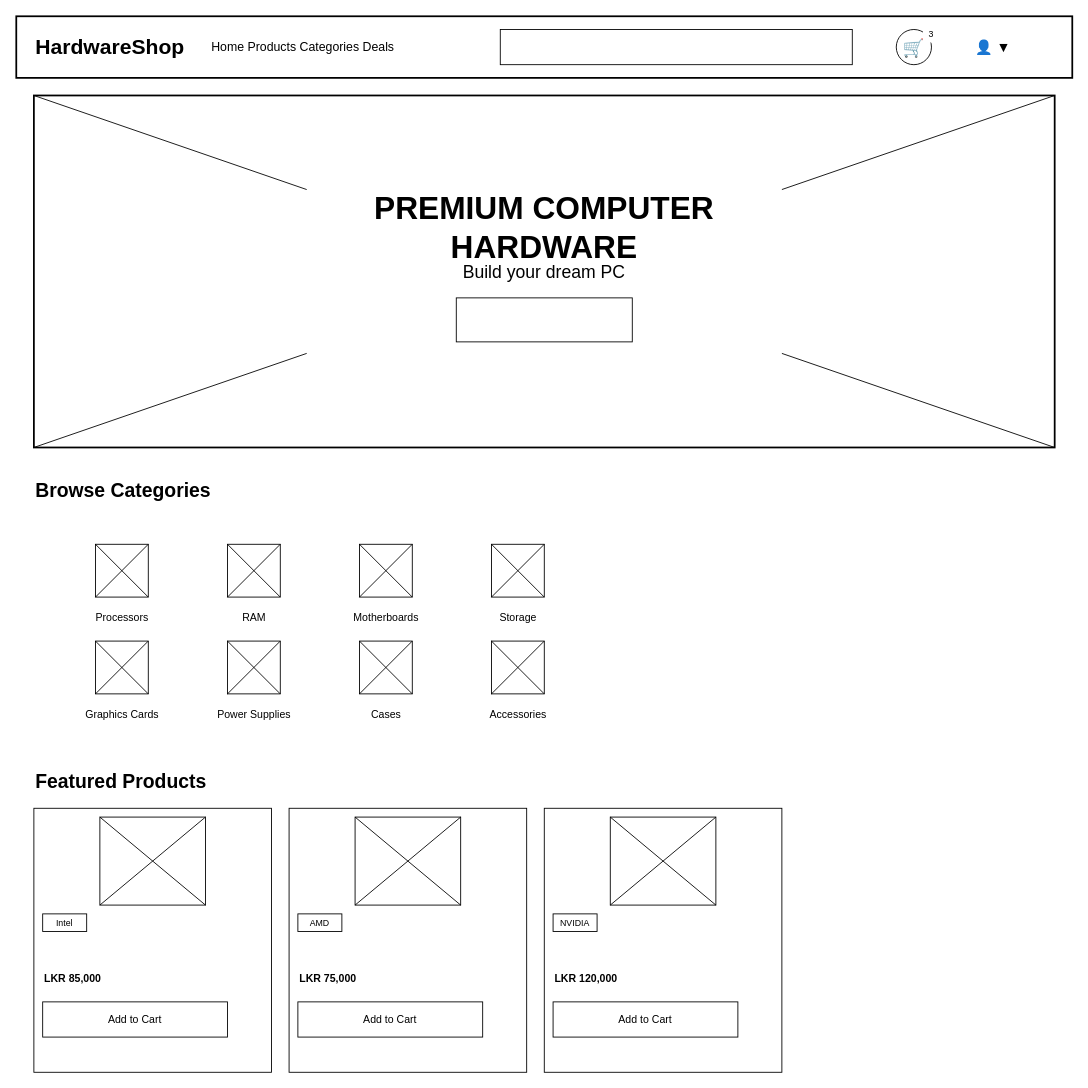
This 1088x1088 diagram has some shape labels left out. The centre of each missing label's shape, as x and y in pixels:
"Search products..." belongs at point (675, 47).
"Shop Now →" belongs at point (543, 319).
